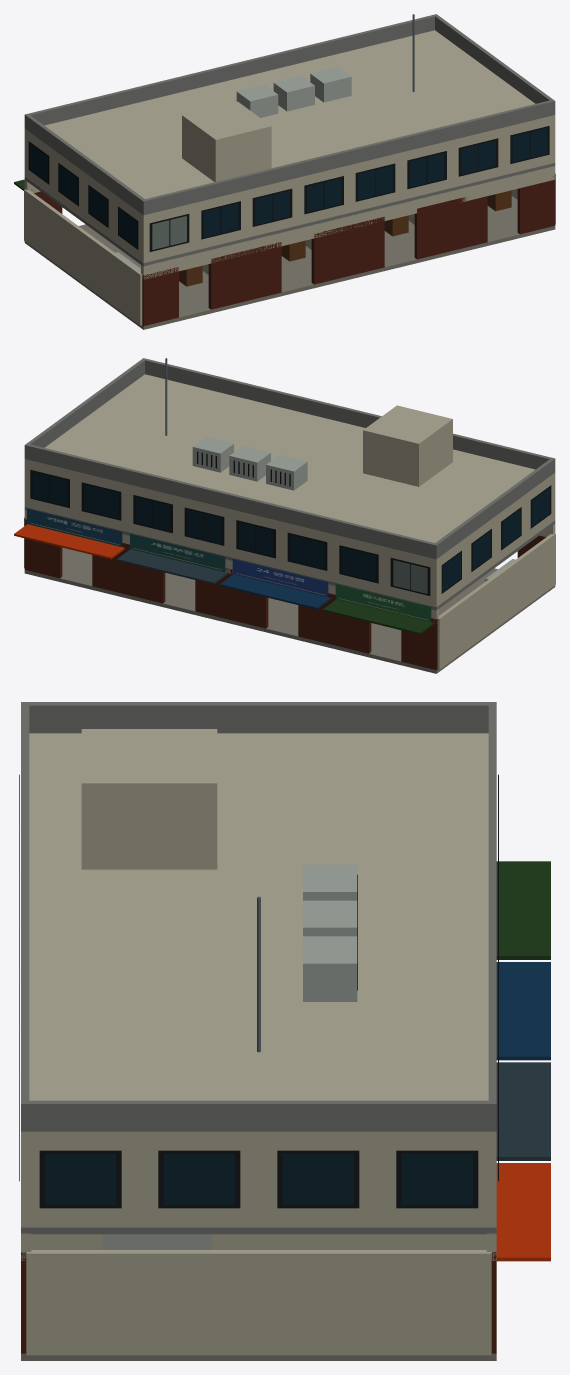
The model's file is retail_row.obj.
The picture shows the model from 3 angles, top to bottom: view 1: azimuth 30°, elevation 25°; view 2: azimuth 150°, elevation 25°; view 3: azimuth 270°, elevation 25°; orthographic projection. The views are drawn at different scales.
Visible parts, largest first — view 1: Warm_Plaster, Concrete, Brick, Window_Glass, Interior_Floor, Dark_Frame, AC_White, Wood, Window_Light; view 2: Warm_Plaster, Concrete, Brick, Window_Glass, Interior_Floor, Sign_Atlas, Dark_Frame, AC_White, Roof_Metal, Foliage, Industrial_Blue, Orange (+1 smaller); view 3: Warm_Plaster, Concrete, Window_Glass, AC_White, Dark_Frame, Orange, Foliage, Roof_Metal, Industrial_Blue, Interior_Floor, Brick.
Part boxes in pixels (x1,y1,x2,y2): Warm_Plaster: (24, 30, 555, 325); Concrete: (24, 14, 555, 265); Brick: (25, 175, 555, 326); Window_Glass: (30, 128, 547, 247); Interior_Floor: (24, 196, 555, 329); Dark_Frame: (28, 126, 549, 251); AC_White: (115, 67, 351, 271); Wood: (179, 190, 511, 286); Window_Light: (152, 216, 186, 249); Warm_Plaster: (24, 374, 555, 669); Concrete: (24, 358, 555, 610); Brick: (24, 519, 545, 670); Window_Glass: (32, 472, 549, 591); Interior_Floor: (24, 547, 555, 673); Sign_Atlas: (27, 508, 431, 622); Dark_Frame: (30, 451, 551, 595); AC_White: (192, 437, 515, 581); Roof_Metal: (117, 549, 227, 584); Foliage: (323, 599, 433, 634); Industrial_Blue: (220, 574, 330, 609); Orange: (14, 524, 124, 559); Warm_Plaster: (21, 729, 496, 1355); Concrete: (21, 702, 496, 1234); Window_Glass: (45, 1153, 472, 1205); AC_White: (102, 864, 357, 1249); Dark_Frame: (19, 774, 498, 1208); Orange: (496, 1163, 550, 1261); Foliage: (496, 861, 550, 959); Roof_Metal: (496, 1062, 550, 1160); Industrial_Blue: (496, 962, 550, 1060); Interior_Floor: (21, 1353, 496, 1360); Brick: (21, 1252, 496, 1353).
Size of the model in its own units: 28.25 by 12.44 by 15.66.
